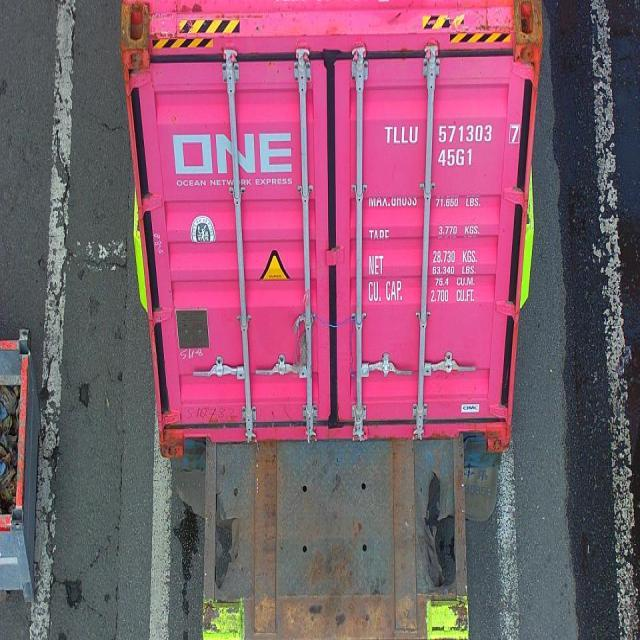ISO: (437, 150, 474, 167)
container_number: (378, 124, 512, 146)
